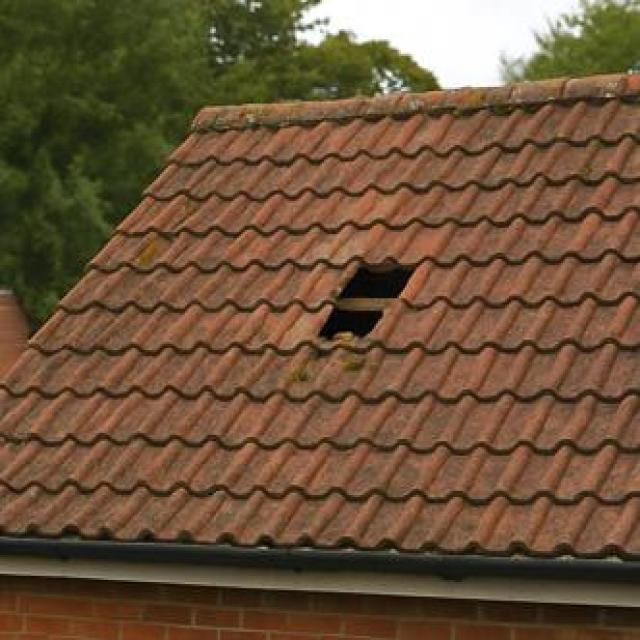trou: (302, 256, 428, 343)
